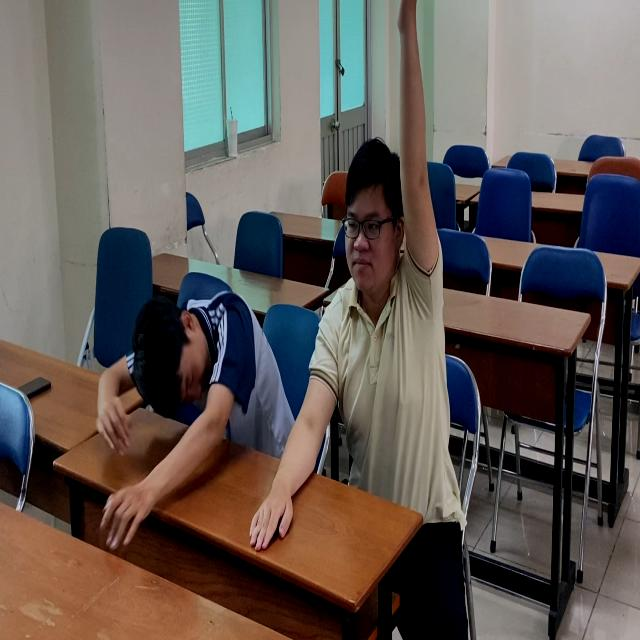raise_hand: (299, 1, 469, 569)
sleep: (77, 289, 291, 482)
